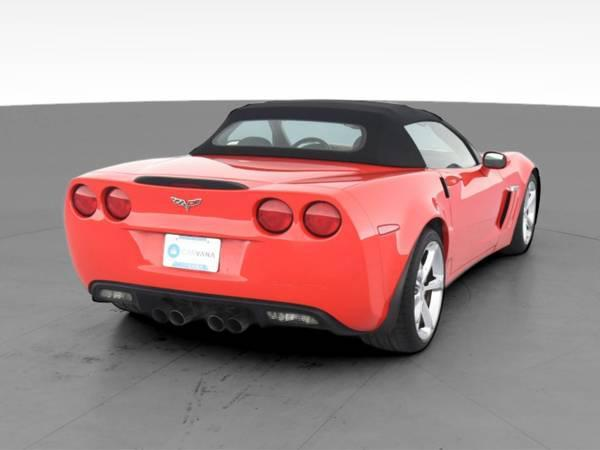Front_Fender: (499, 152, 534, 251)
Front_Right_Door: (431, 165, 506, 285)
Front_Right_Window: (407, 121, 482, 170)
Left_Taillight: (62, 179, 131, 226)
Rear_Bumper: (65, 219, 373, 338)
Rear_Fender: (326, 171, 445, 328)
Rear_Windshield: (206, 116, 365, 160)
Right_Taillight: (254, 191, 348, 243)
Roof: (190, 97, 486, 167)
Tailgate: (72, 153, 423, 237)
Wheel: (396, 234, 444, 350), (514, 173, 540, 249)
